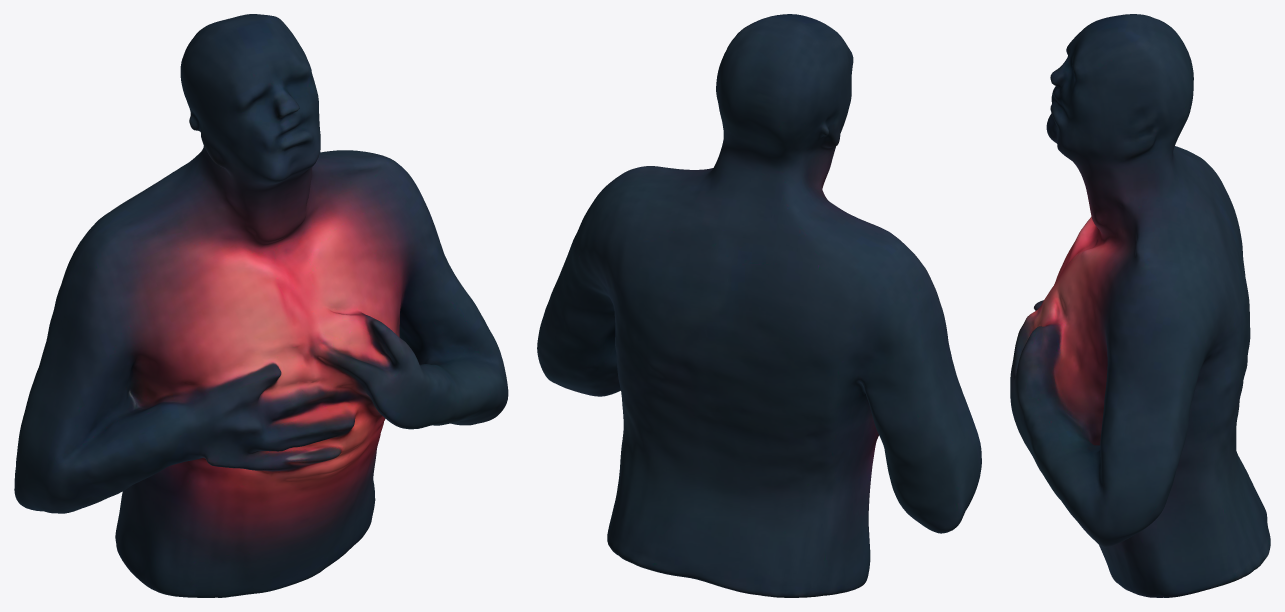
Rendered from chest-pain.glb.
The picture shows the model from 3 angles, left to right: view 1: azimuth 30°, elevation 25°; view 2: azimuth 150°, elevation 25°; view 3: azimuth 270°, elevation 25°; orthographic projection. The views are drawn at different scales.
Parts seen in each view (by area): view 1: world; view 2: world; view 3: world.
Part boxes in pixels (x1,y1,x2,y2): world: [14, 14, 508, 597]; world: [537, 14, 981, 597]; world: [1010, 14, 1270, 597].
Size of the model in its own units: 0.685 by 0.8139 by 0.3589.
Materials: 1 (1 with a texture image).
